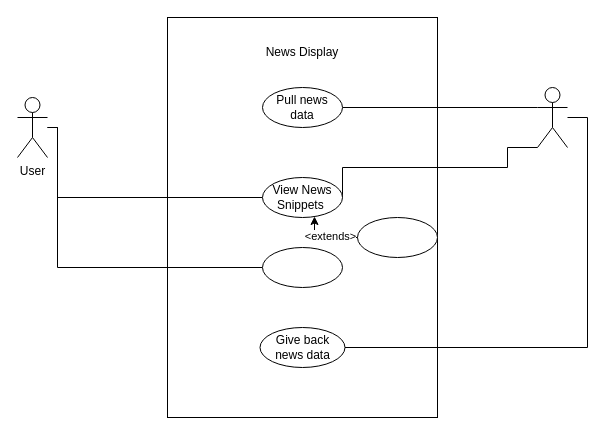
This 606x435 diagram has some shape labels left out. Each missing label, with the centre of its shape:
"News API" goes at pixel 552 117.
"See news articles" goes at pixel 397 237.
"Sort Snippets" goes at pixel 302 267.
